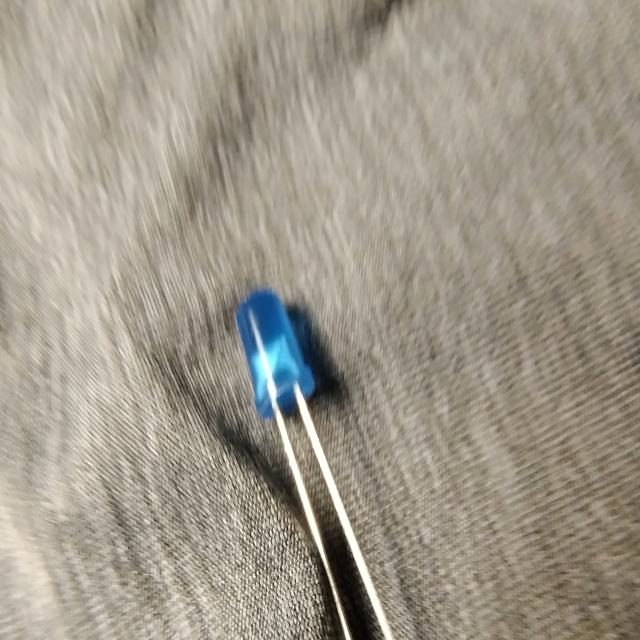blue_led: (234, 287, 316, 421)
